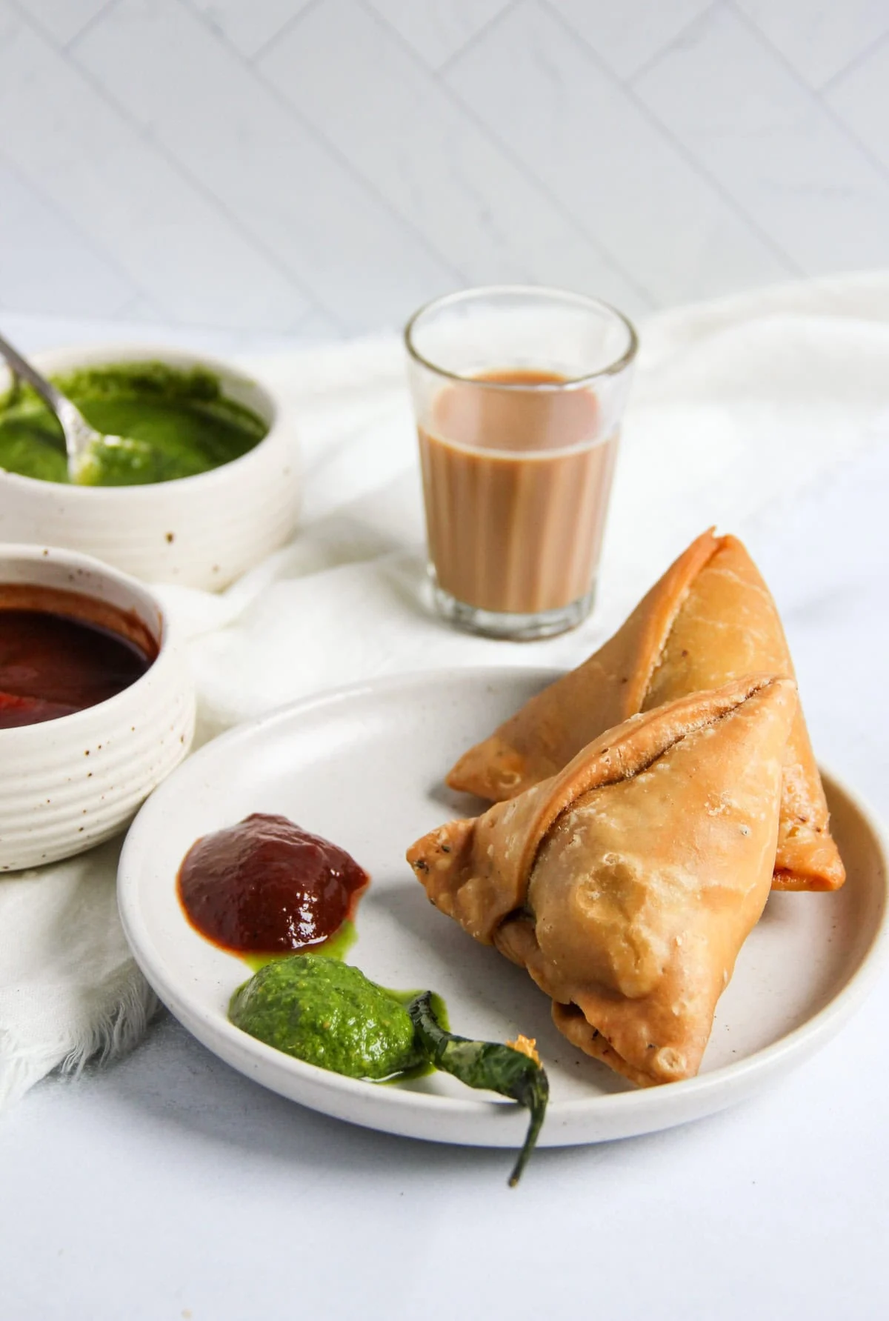samosa: (411, 671, 808, 1104), (578, 493, 822, 845)
